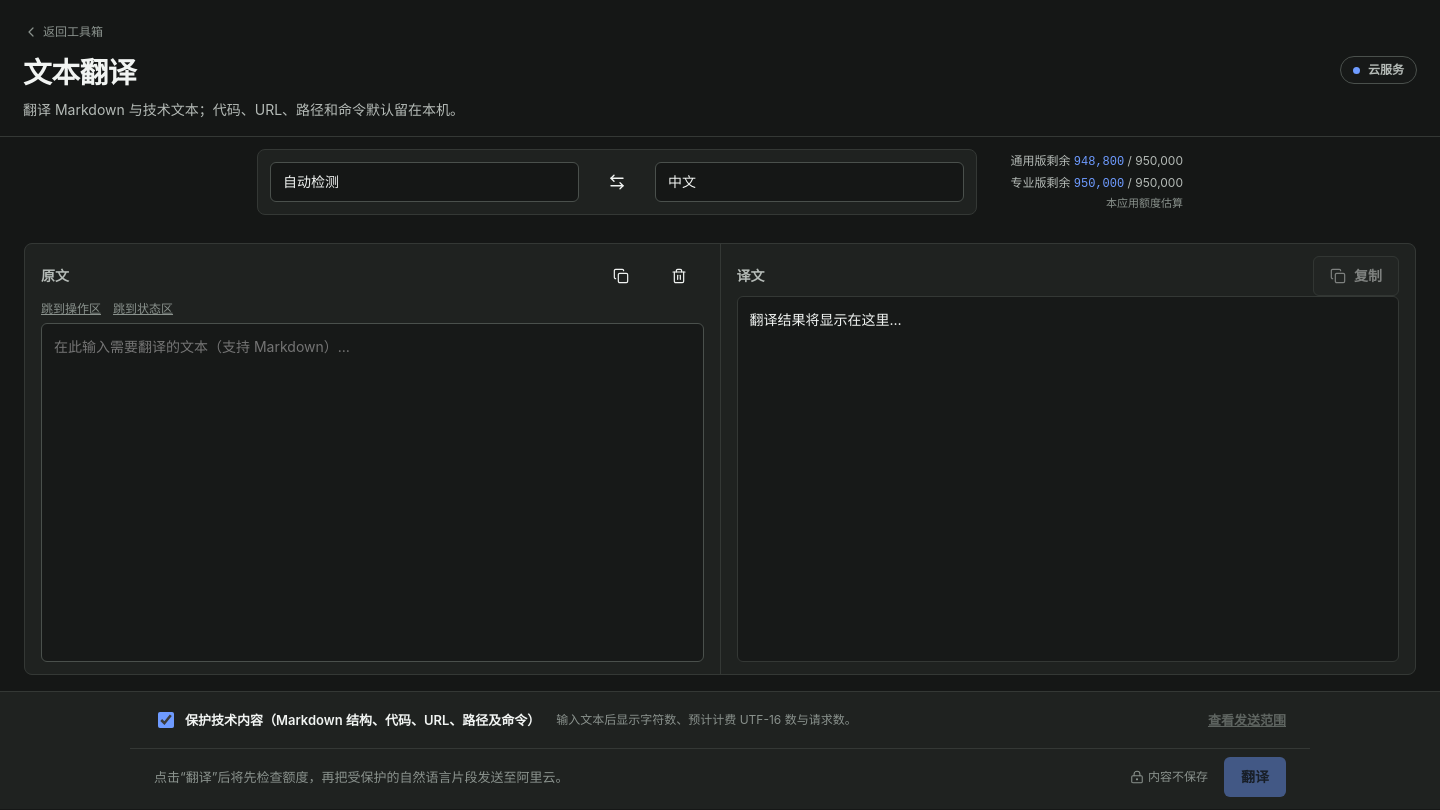
Test case: TranslateView 文本翻译工作台 › 输入变化会作废旧预检，迟到响应不能触发旧文本发送
This screenshot has width=1440, height=810.
Type "第一版文本" into the text box with id "translate-input" at (372, 493), box [41,323,704,662]
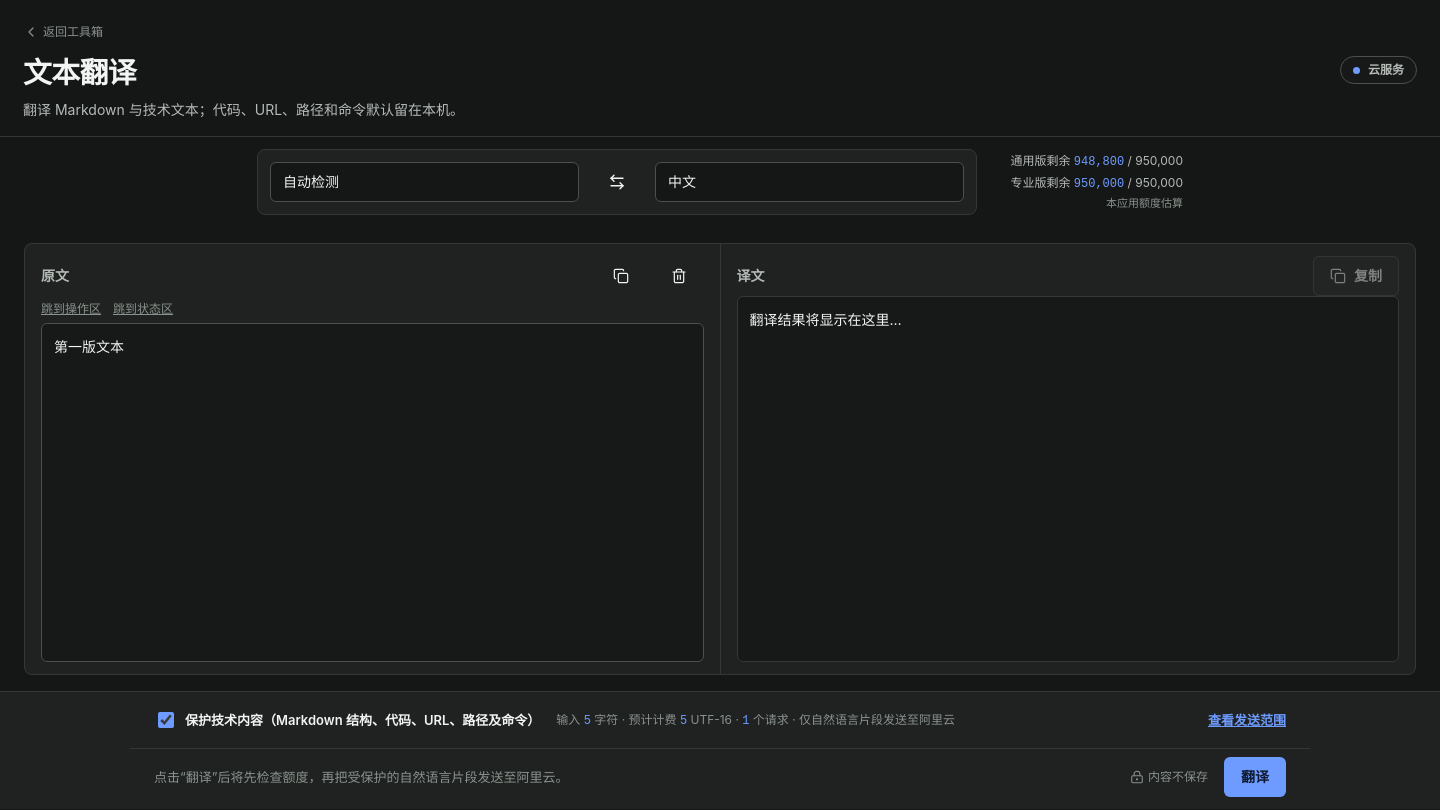
Type "英语" into the dropdown with id "translate-target-language" at (810, 182), box [655,162,964,202]
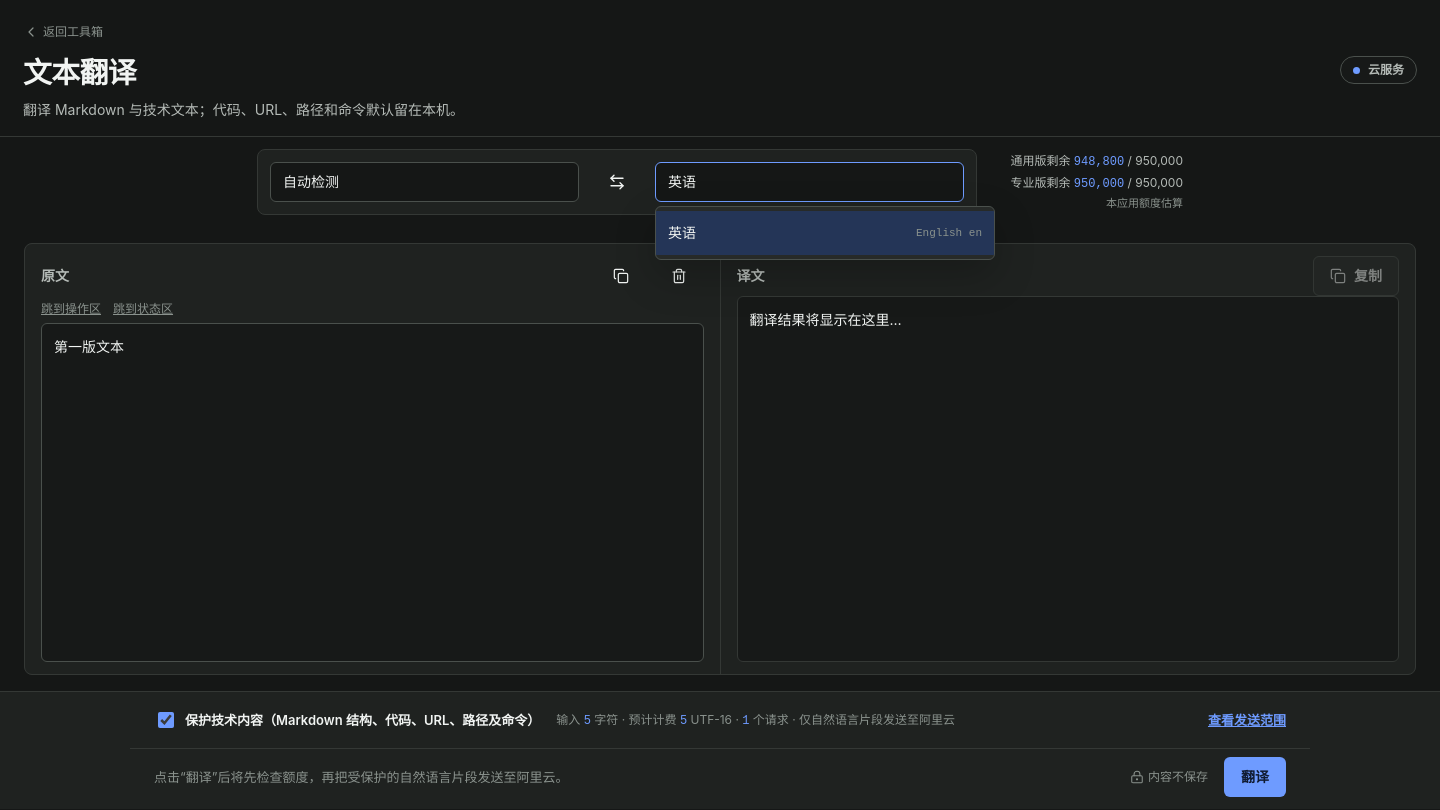
Click the option "英语 English en" at (949, 233), box [656,211,994,255]
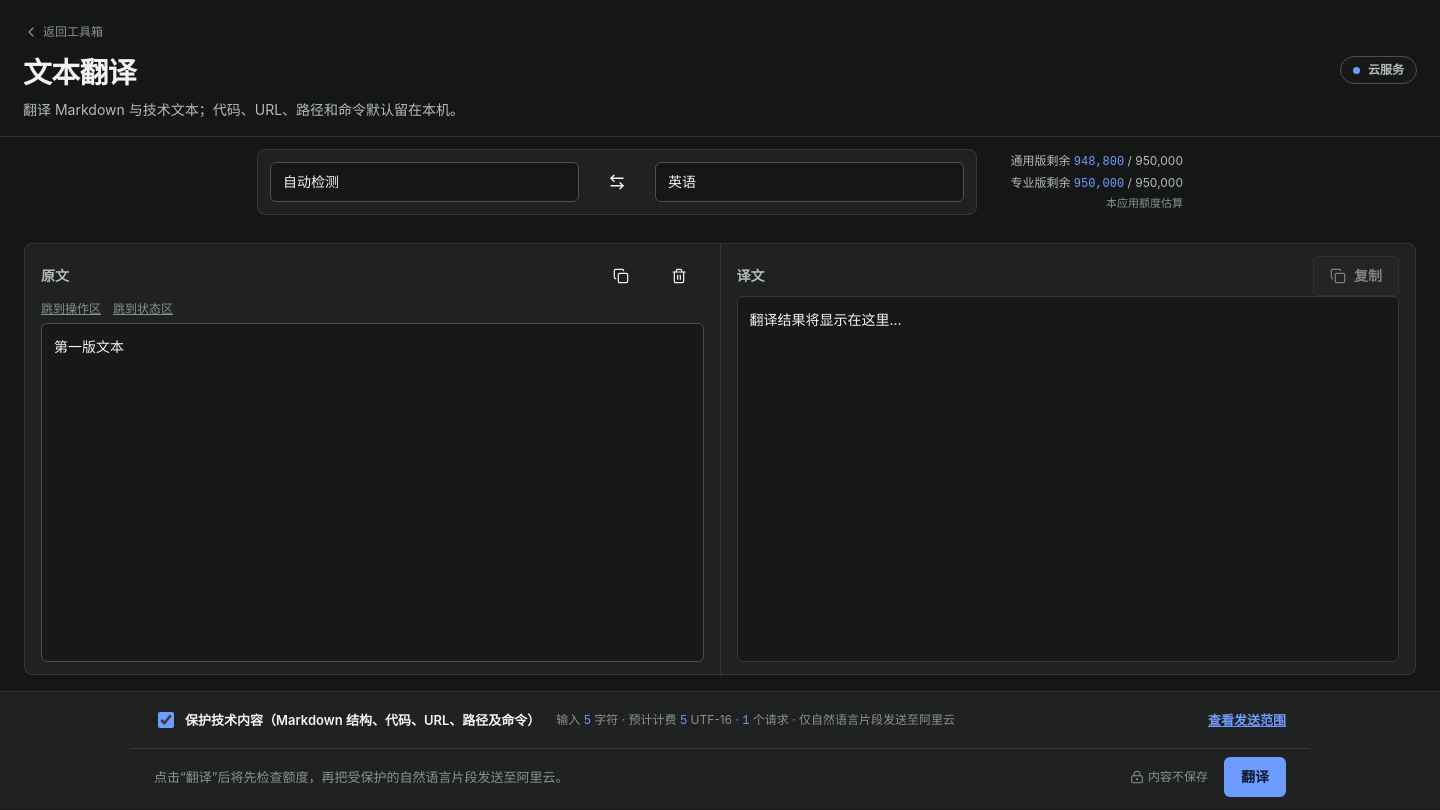
Click the button with test id "translate-primary" at (1255, 777), box [1224,757,1286,797]
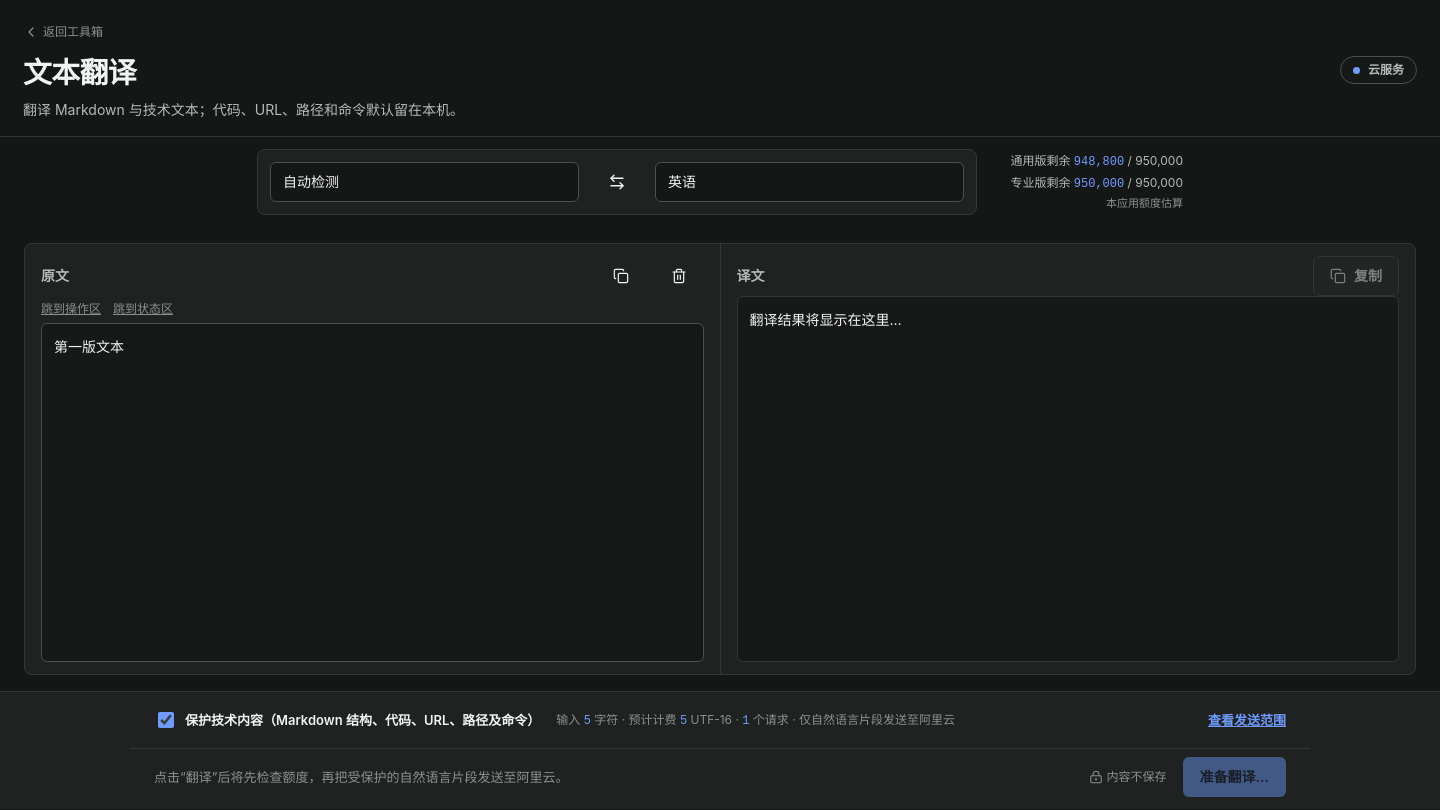
Replace the text in the text box with id "translate-input" with "第二版文本" at (372, 493), box [41,323,704,662]
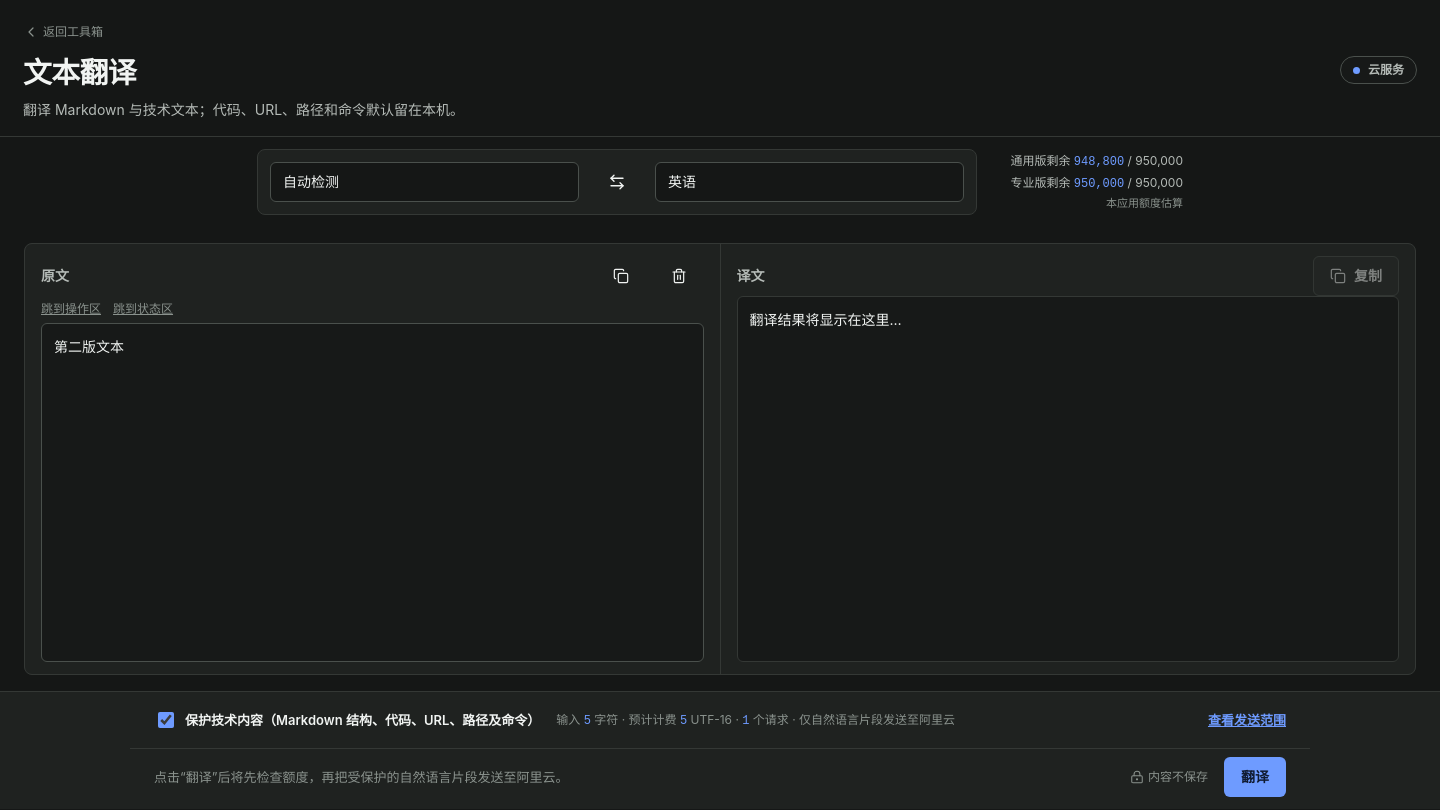
Click the button with test id "translate-primary" at (1255, 777), box [1224,757,1286,797]
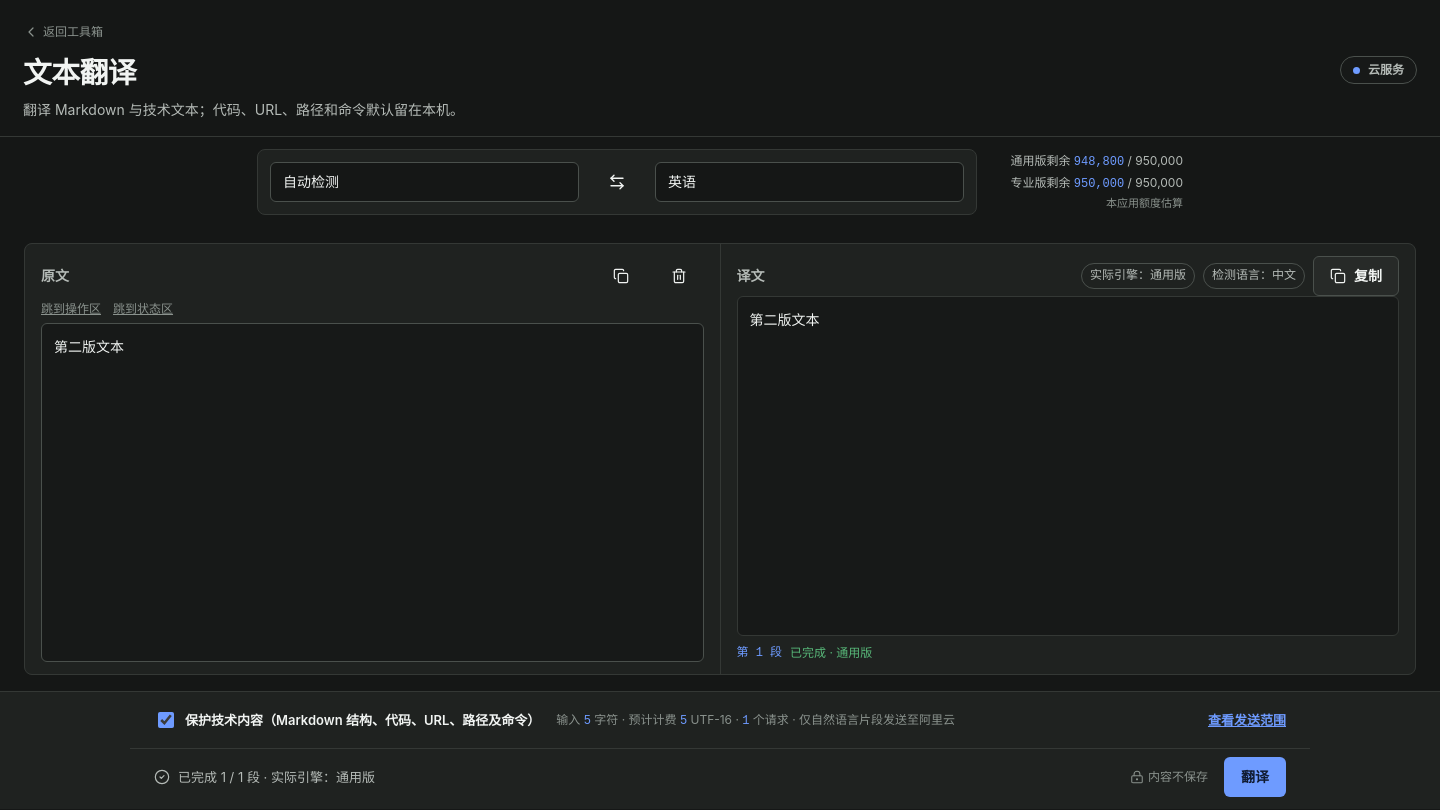
Check: the element with test id "translate-output" does not show "第一版文本"
Check: the text with test id "translate-output" reads "第二版文本", box [750,311,820,328]
